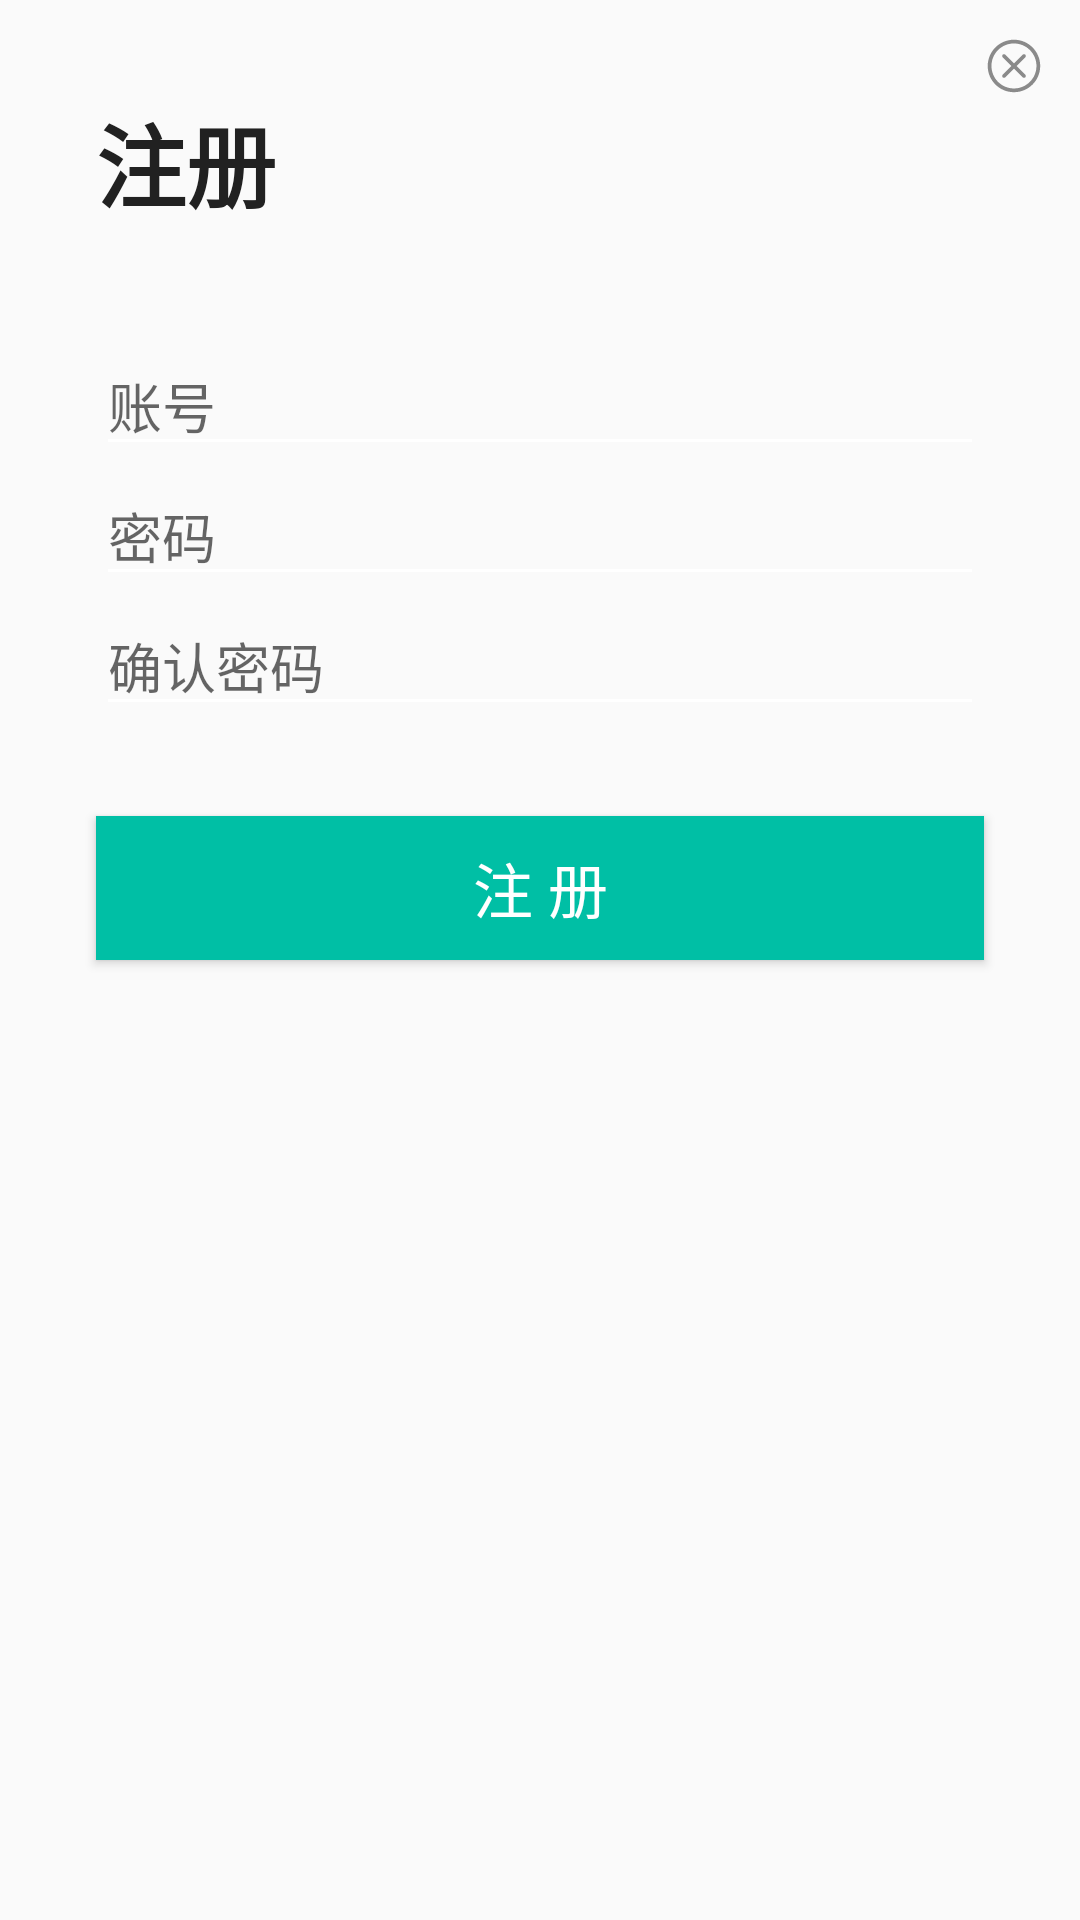

Named icons in this screenshot (1080w x 1920h) and their bounding boxes, [x1=x1, y1=y1, x2=x2, y2=y2]:
close: [x1=987, y1=39, x2=1041, y2=93]
